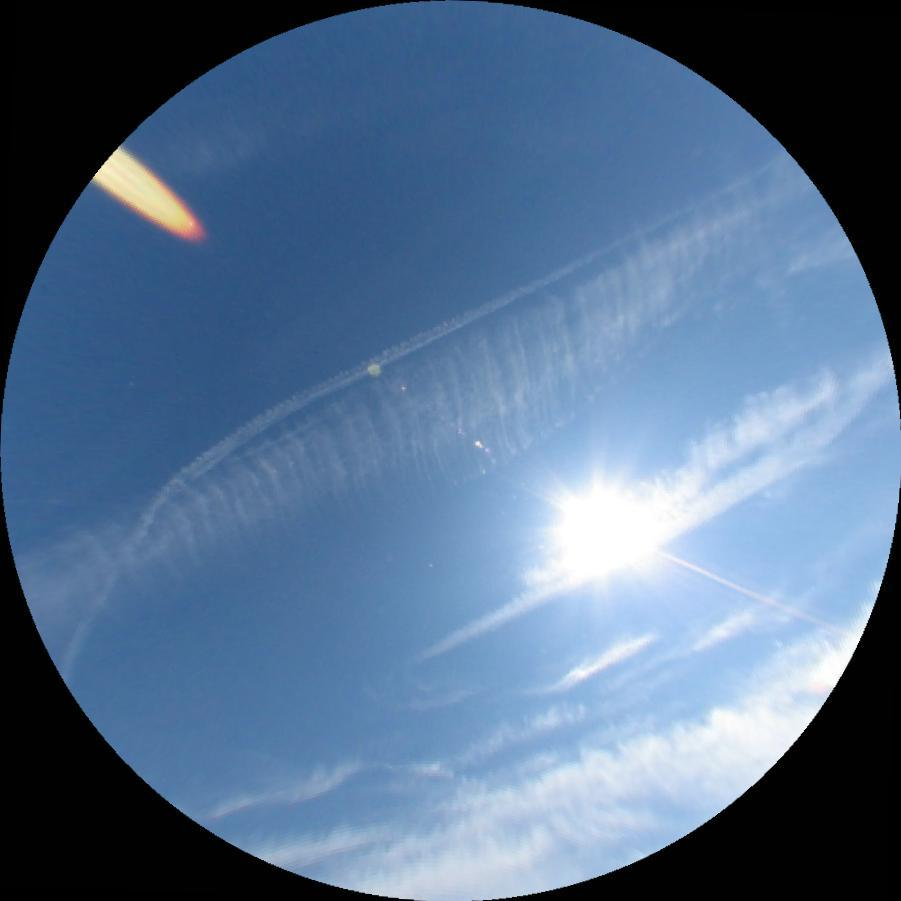contrail old: (3, 73, 792, 684)
contrail veryold: (6, 160, 869, 682), (503, 345, 849, 601)
parasite: (645, 544, 849, 638)
sun: (562, 493, 653, 569)
